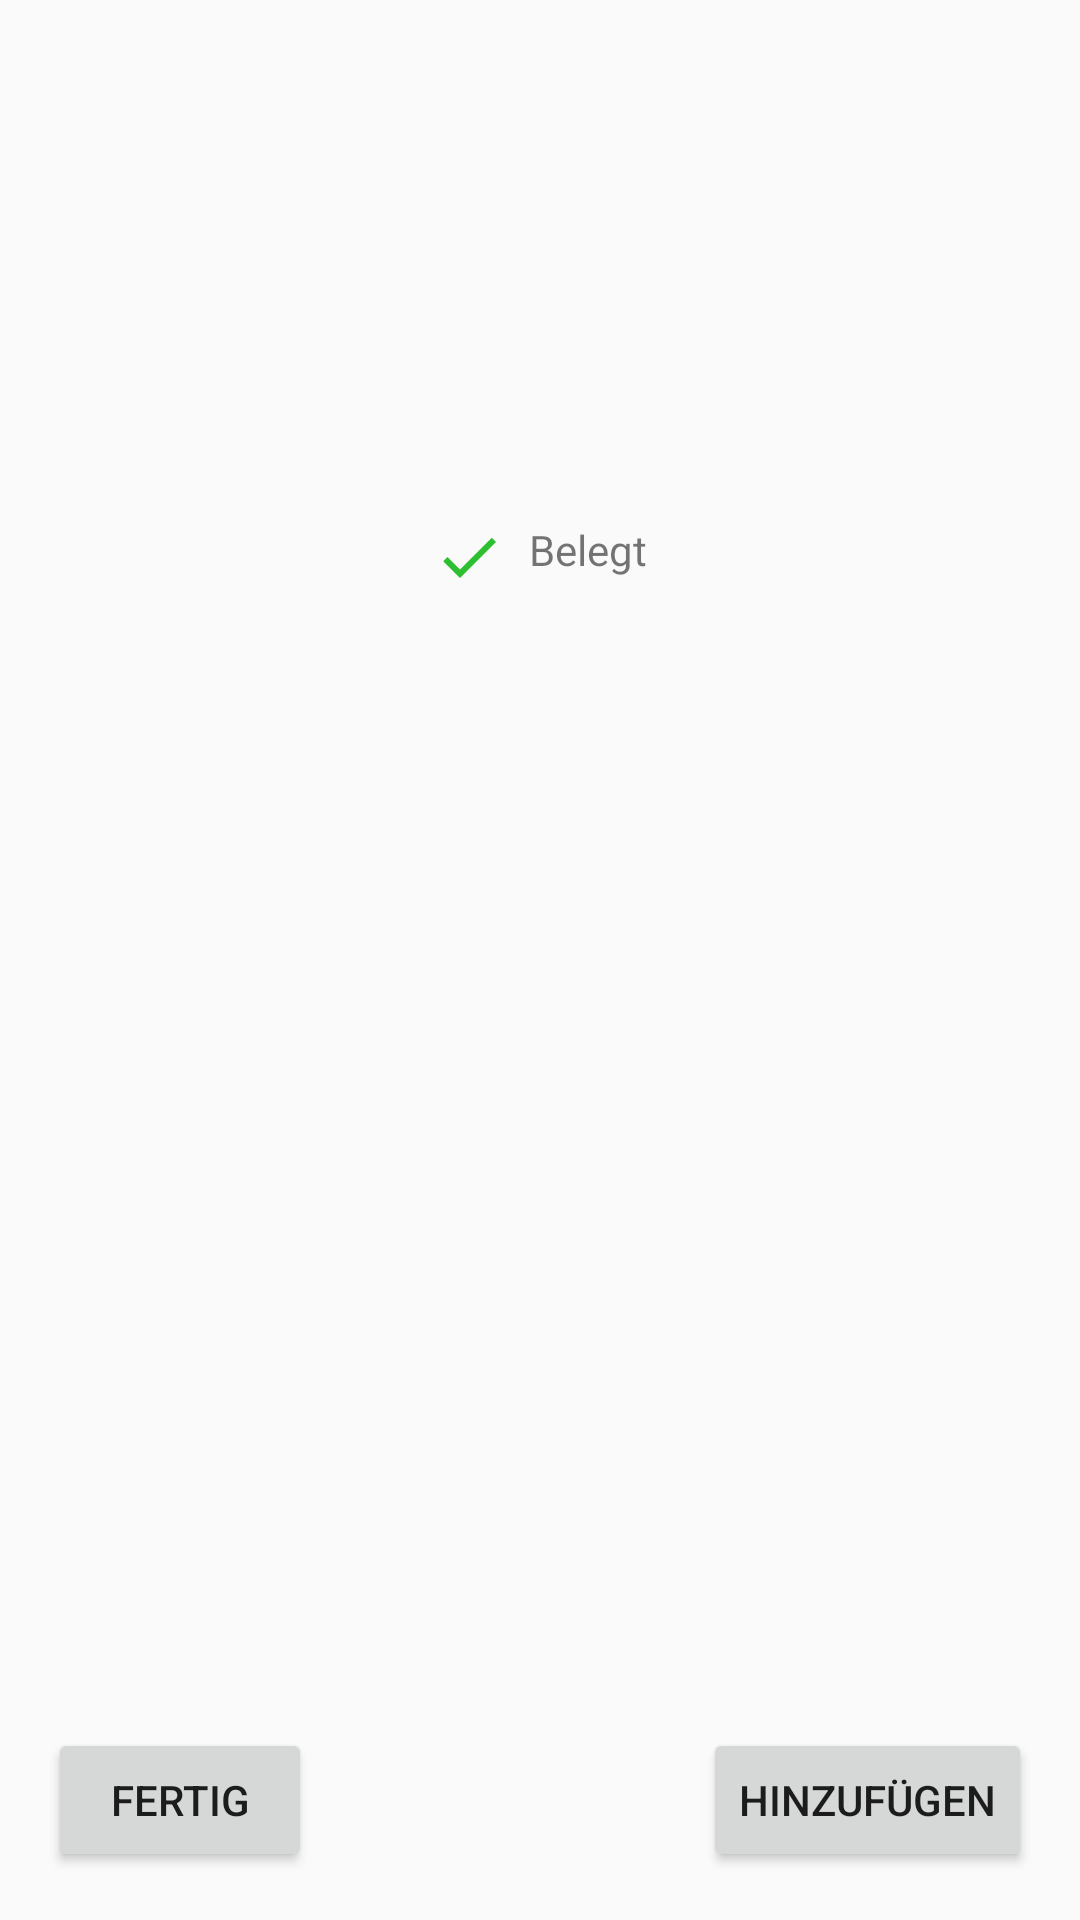

Icon bounding boxes for this 1080×1920 phone screenshot, format {"x1": x1, "y1": y1, "x2": x2, "y2": y2}:
check: {"x1": 443, "y1": 538, "x2": 496, "y2": 578}
